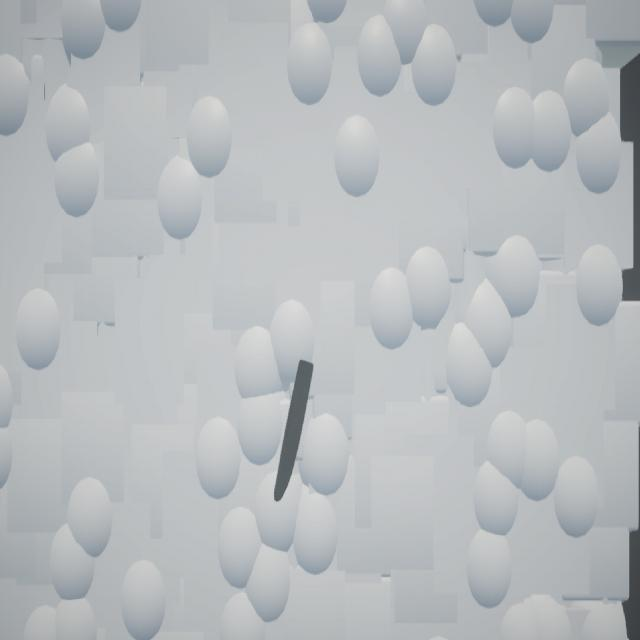top_knife: (275, 360, 315, 503)
